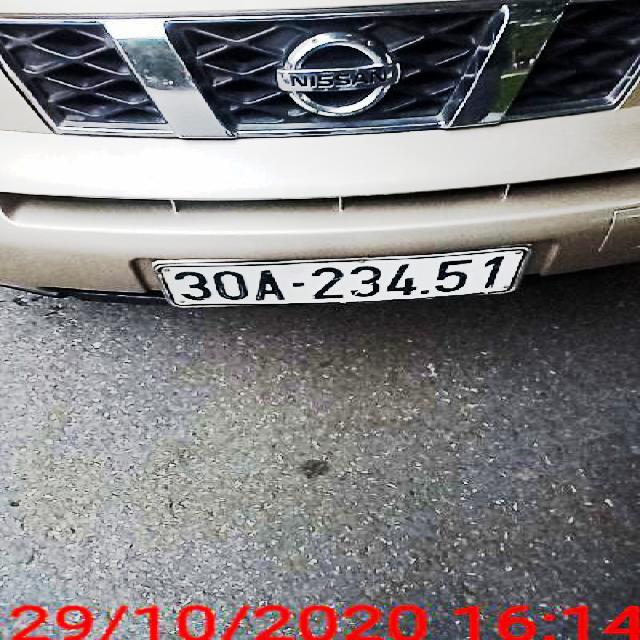license_plate: (165, 250, 527, 307)
